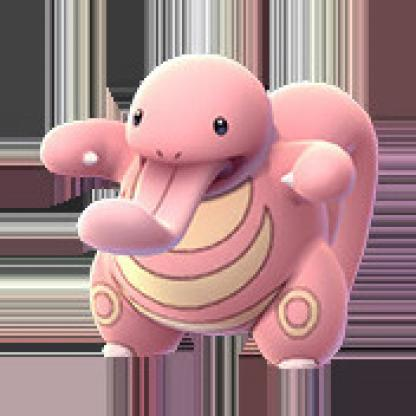Lickitung: (44, 53, 381, 379)
